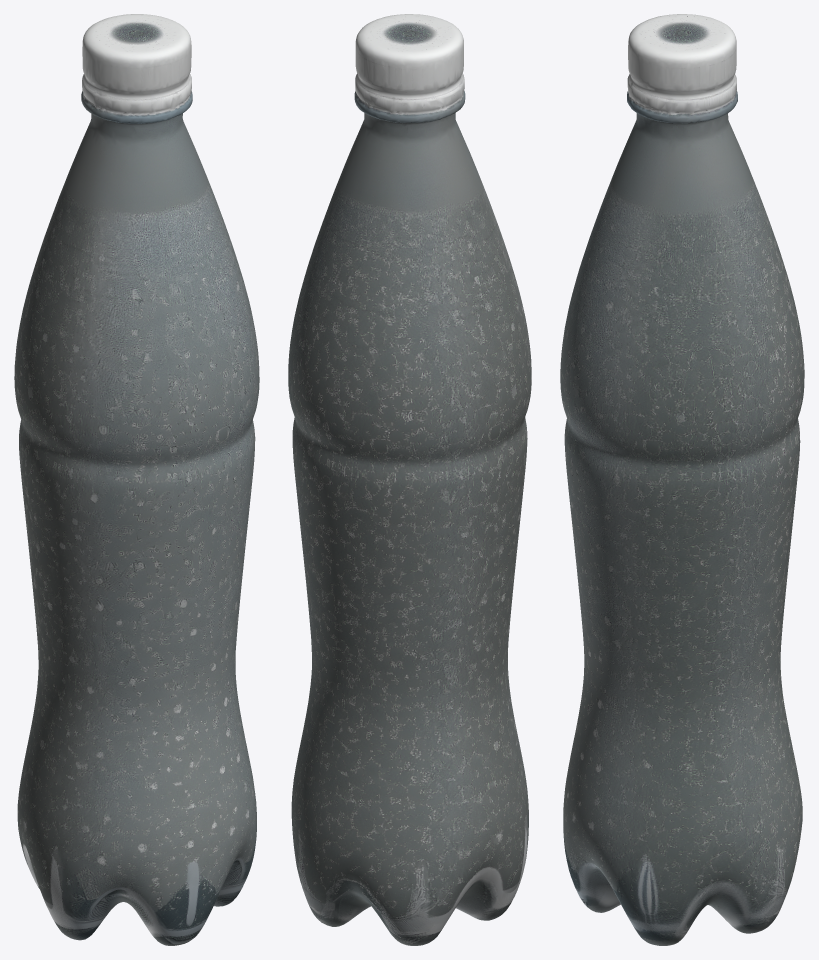
Rendered from cousin_1.glb.
The picture shows the model from 3 angles, left to right: view 1: azimuth 30°, elevation 25°; view 2: azimuth 150°, elevation 25°; view 3: azimuth 270°, elevation 25°; orthographic projection.
Size of the model in its own units: 0.4824 by 1.91 by 0.4824.
1 material, 1 textured.
